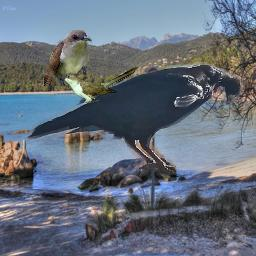Crow: (24, 62, 243, 175)
Cuckoo: (58, 66, 138, 103), (43, 30, 92, 86)
